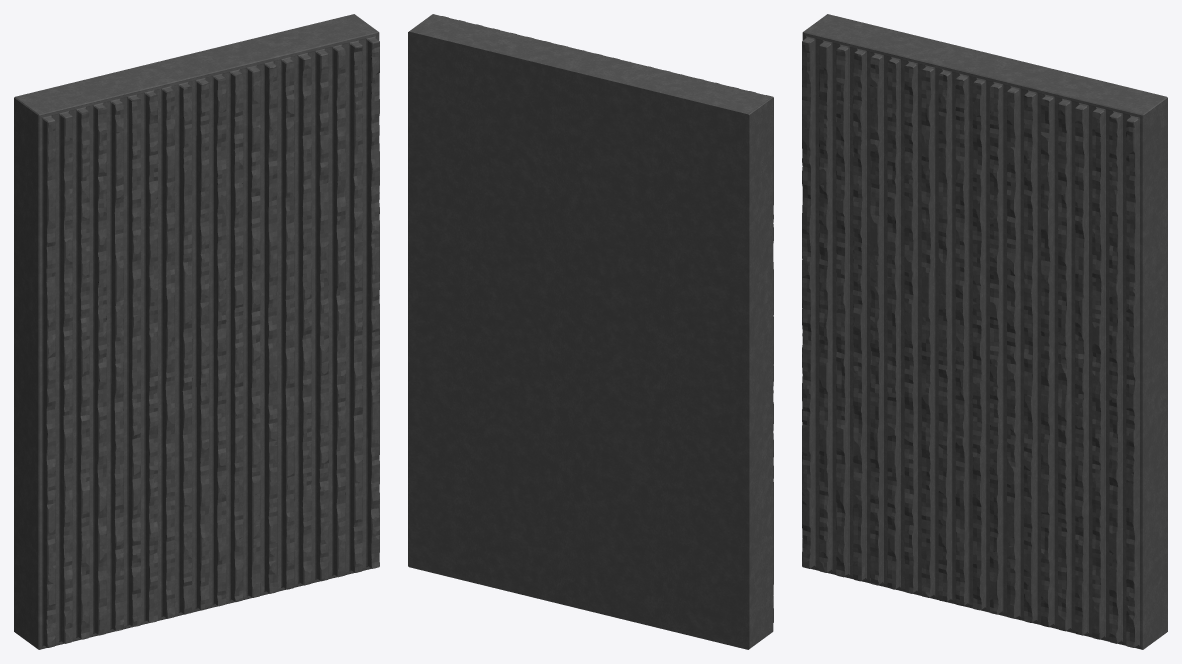
File: wall_4,00x6,00x0,50_old-concrete_7_2_high.glb
3 renders of one model, left to right at view 1: azimuth 30°, elevation 25°; view 2: azimuth 150°, elevation 25°; view 3: azimuth 330°, elevation 25°, orthographic.
Visible parts, largest first — view 1: high_2; view 2: high_2; view 3: high_2.
Boxes of the visible parts, bbox=[...] form: high_2: bbox=[14, 14, 379, 649]; high_2: bbox=[408, 14, 773, 649]; high_2: bbox=[802, 14, 1167, 649].
Bounding box in the file's own units: 4 × 6 × 0.5994.
1 material, 1 textured.
